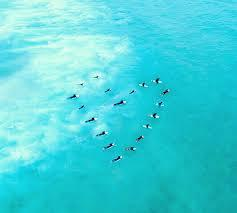swimmer: (111, 99, 125, 108), (85, 116, 97, 126), (123, 145, 137, 153), (77, 102, 88, 112), (146, 112, 164, 118), (140, 124, 155, 131), (110, 156, 123, 164), (105, 141, 115, 150), (160, 88, 171, 96), (134, 135, 146, 142), (95, 130, 107, 137), (156, 101, 165, 109), (93, 73, 102, 81), (68, 93, 77, 101), (153, 77, 160, 84), (128, 90, 136, 96), (103, 87, 111, 93), (141, 80, 146, 88), (78, 83, 84, 85)
